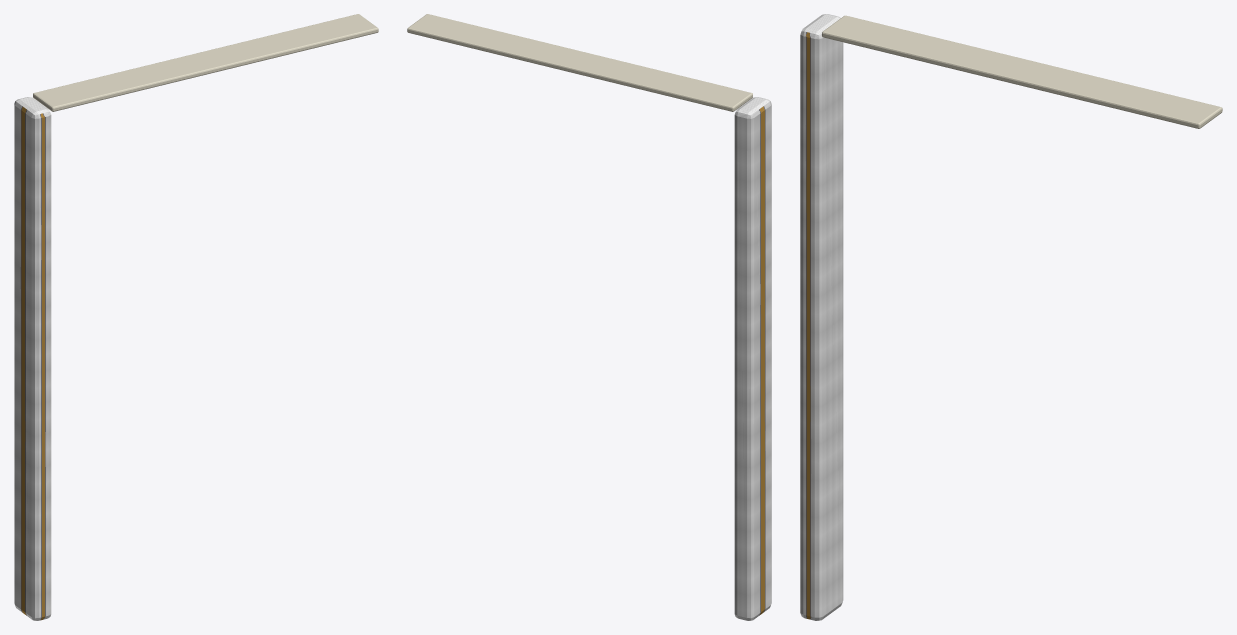
Rendered from shelf-book.glb.
The picture shows the model from 3 angles, left to right: view 1: azimuth 30°, elevation 25°; view 2: azimuth 150°, elevation 25°; view 3: azimuth 330°, elevation 25°; orthographic projection. The views are drawn at different scales.
Parts seen in each view (by area): view 1: Spine, PageTop; view 2: Spine, PageTop; view 3: Spine, PageTop.
Part boxes in pixels (x1,y1,x2,y2): Spine: [14, 97, 51, 620]; PageTop: [33, 14, 378, 111]; Spine: [734, 97, 771, 620]; PageTop: [407, 14, 752, 111]; Spine: [800, 14, 843, 620]; PageTop: [822, 15, 1222, 128].
Bounding box in the file's own units: 0.216 × 0.305 × 0.024.
2 materials, 1 textured.
